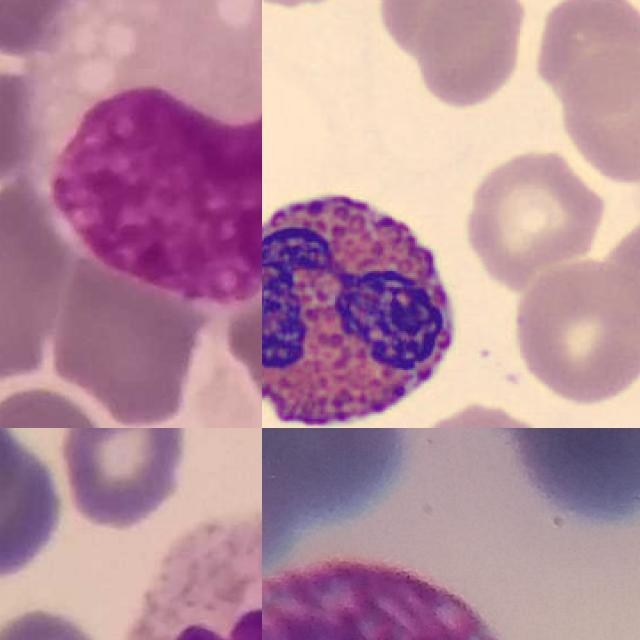Basophil: (262, 563, 535, 640)
Eosinophil: (262, 174, 470, 428)
Monocyte: (38, 0, 262, 303)
Neutrophil: (107, 514, 262, 640)
RBC: (351, 0, 546, 165), (458, 142, 611, 287), (509, 251, 640, 410), (411, 0, 528, 110), (527, 0, 640, 112), (413, 396, 551, 428), (262, 0, 381, 10)
